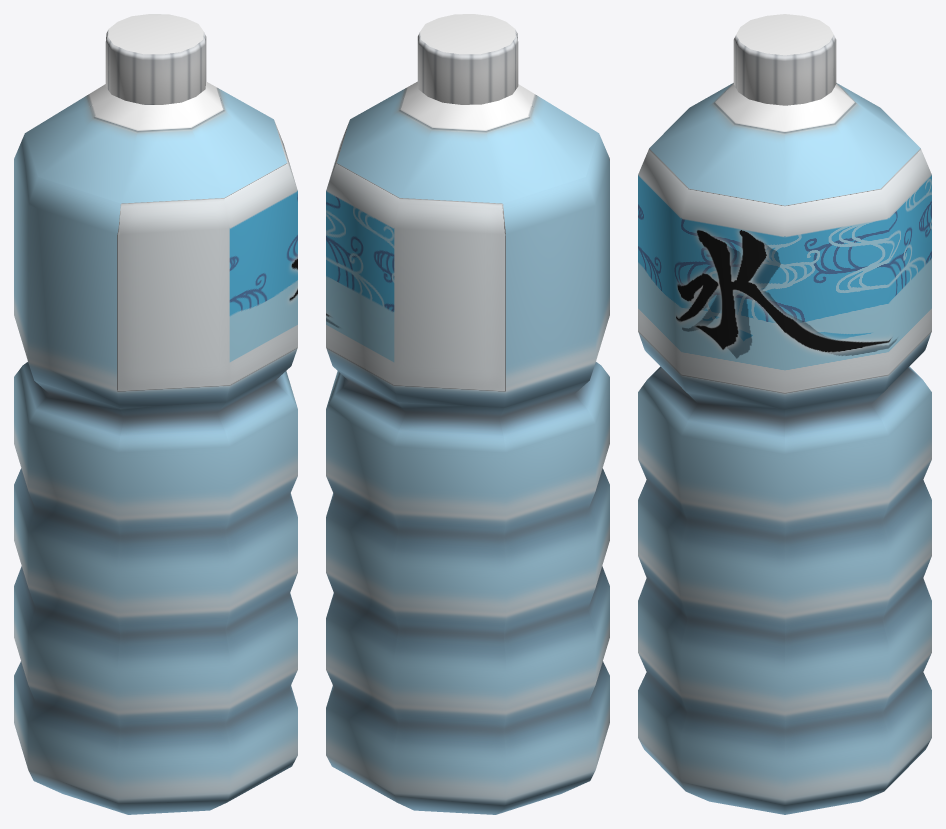
File: botoru.fbx
3 views of the same model, side by side, from view 1: azimuth 30°, elevation 25°; view 2: azimuth 150°, elevation 25°; view 3: azimuth 270°, elevation 25° (orthographic).
Visible parts, largest first — view 1: pCube1; view 2: pCube1; view 3: pCube1.
Part boxes in pixels (<box>): pCube1: <box>14,14,297,814</box>; pCube1: <box>326,14,609,814</box>; pCube1: <box>638,14,931,814</box>.
Bounding box in the file's own units: 4.96 × 13.68 × 4.96.
Materials: 1 (1 with a texture image).
